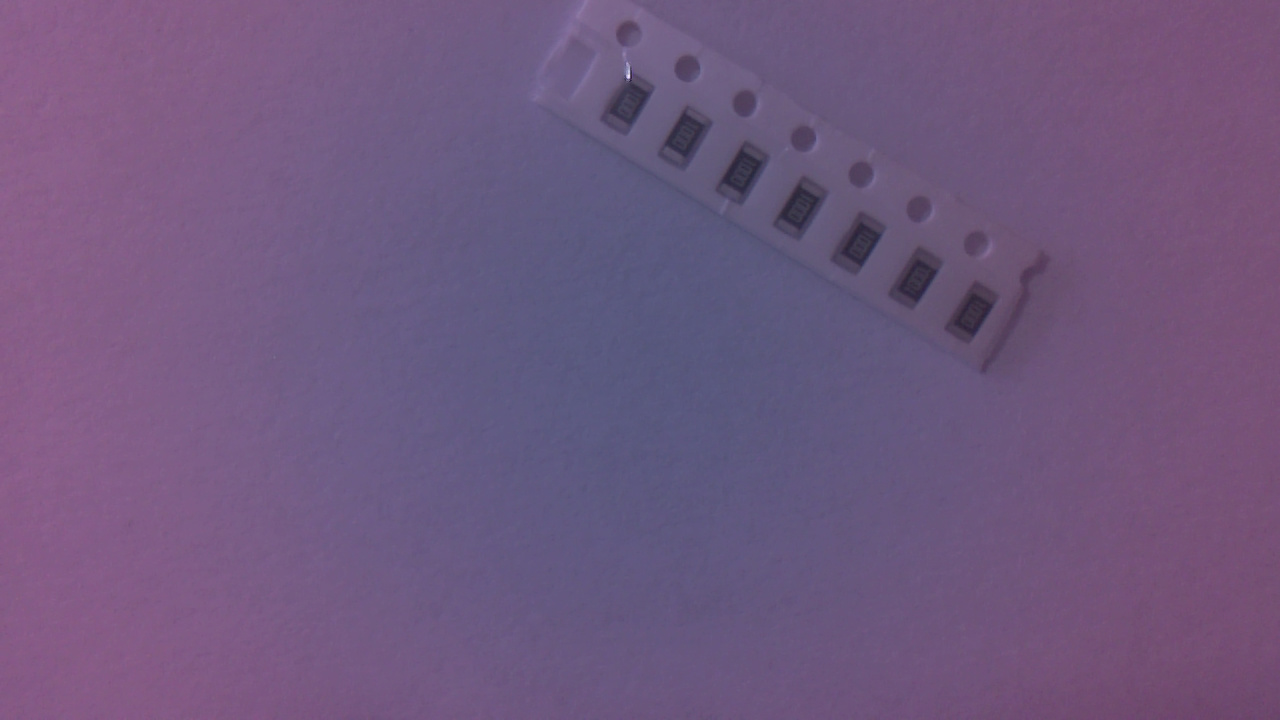Resistor: (719, 143, 778, 211), (835, 214, 892, 281), (779, 180, 837, 245), (605, 76, 661, 142), (893, 252, 951, 315), (664, 110, 719, 174), (951, 285, 1006, 346)
